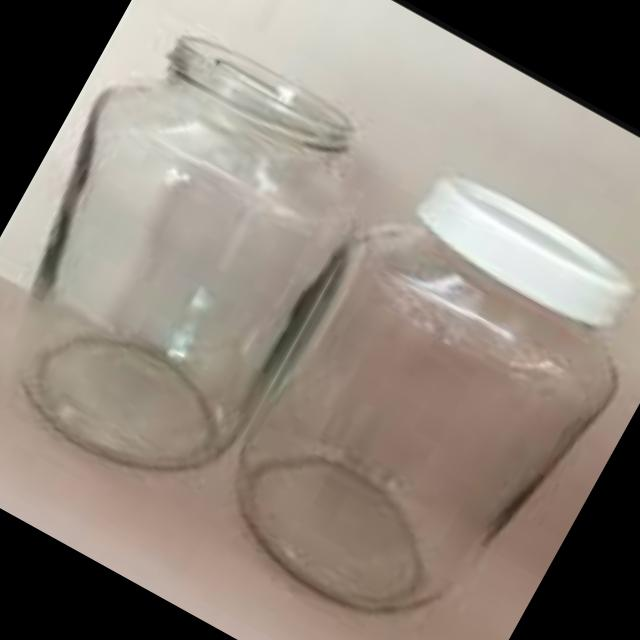ToplesKaca: (191, 136, 640, 640), (0, 0, 422, 524)
